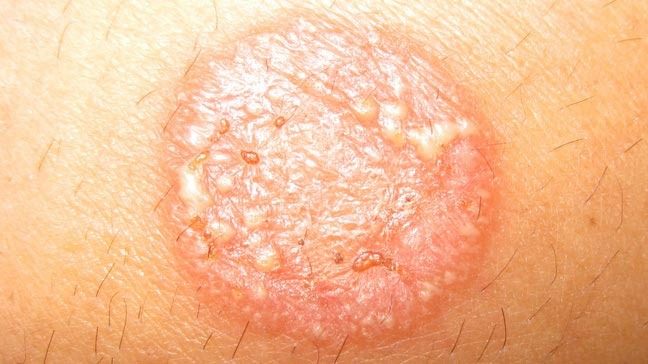Ringworm: (148, 19, 513, 352)
